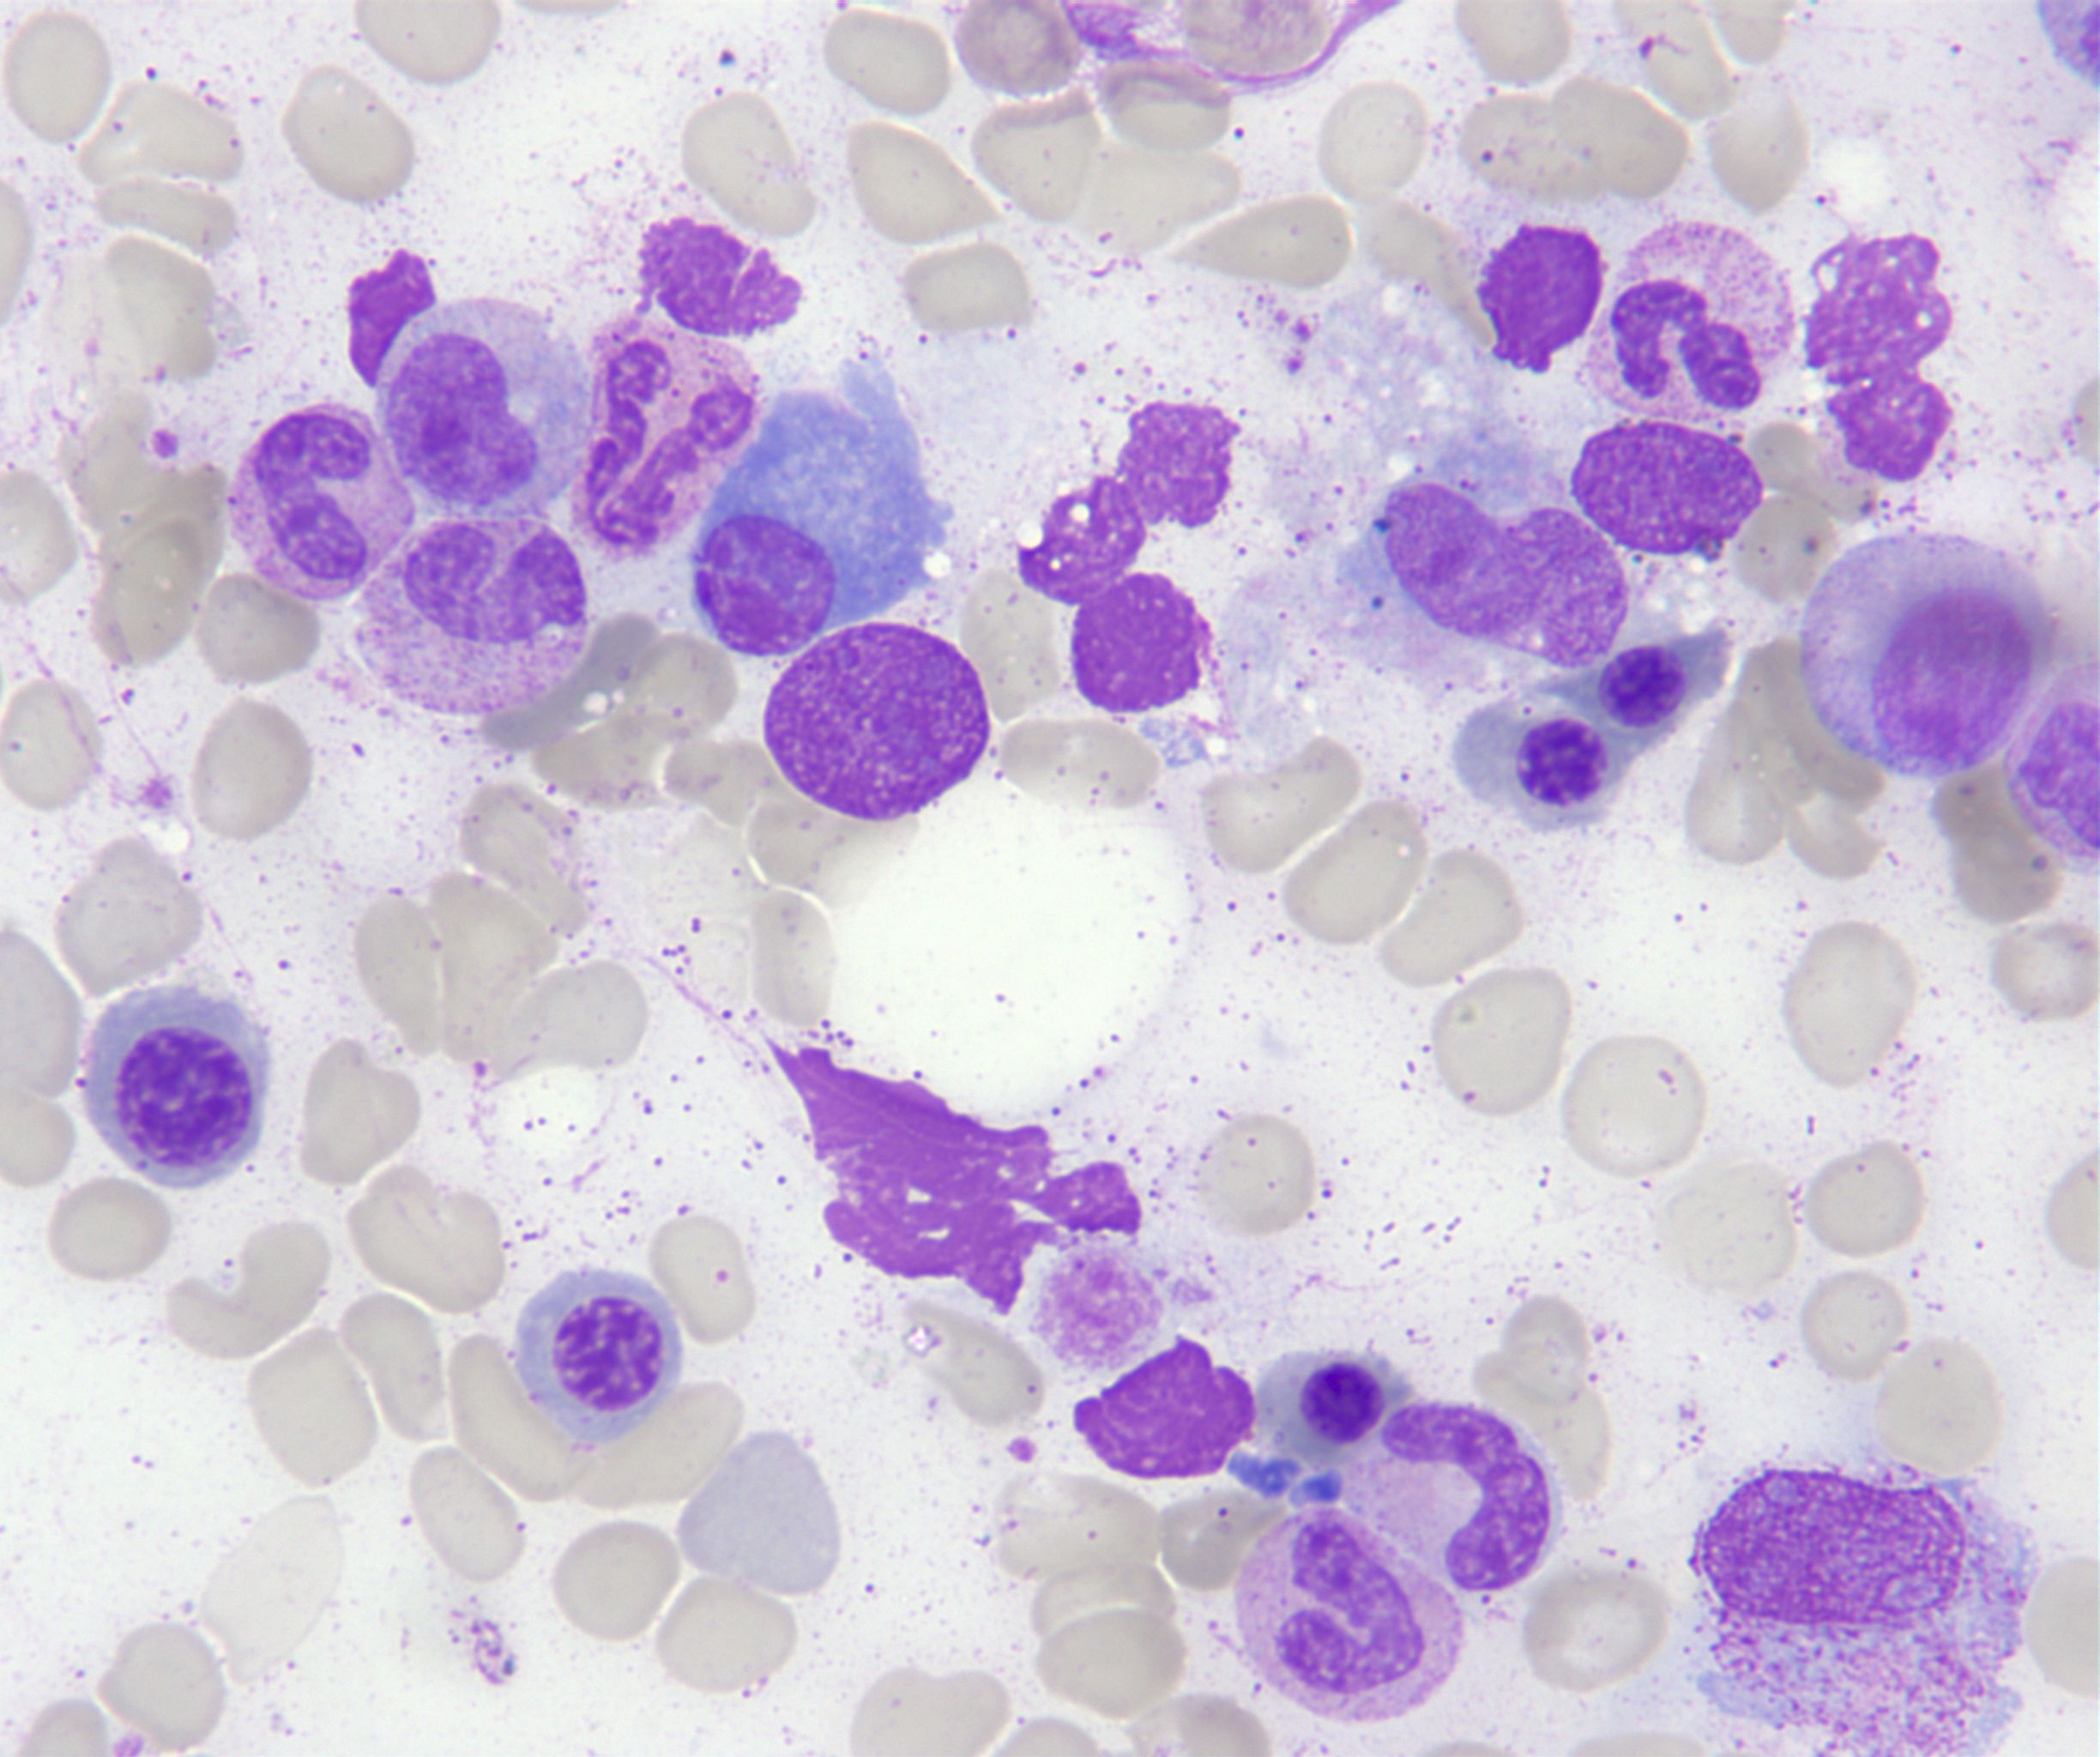24: (80, 984, 269, 1190), (516, 1270, 682, 1443), (1540, 623, 1730, 755), (1453, 698, 1633, 831), (1259, 1350, 1418, 1471)
3: (1800, 534, 2055, 775), (373, 297, 591, 522)
5: (1235, 1502, 1467, 1724), (352, 518, 588, 714), (1343, 1401, 1563, 1596), (230, 401, 417, 604)
52: (692, 349, 954, 656)
6: (569, 312, 767, 567), (1585, 220, 1795, 422)
x: (1692, 1467, 2039, 1755), (1383, 478, 1627, 672), (764, 621, 991, 824), (1805, 236, 1953, 482), (1573, 422, 1765, 558), (1074, 1335, 1254, 1478), (1074, 574, 1216, 715), (1477, 227, 1605, 373), (1017, 476, 1146, 605), (1115, 403, 1240, 529), (347, 251, 438, 387)
